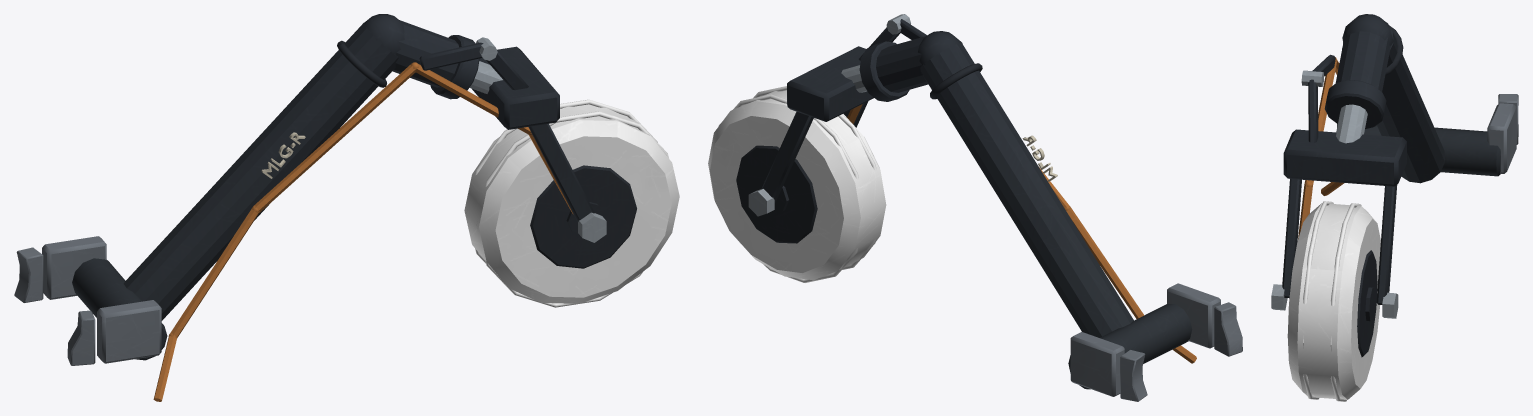
Rendered from landing_strut.glb.
3 views of the same model, side by side, from view 1: azimuth 30°, elevation 25°; view 2: azimuth 150°, elevation 25°; view 3: azimuth 270°, elevation 25° (orthographic). The views are drawn at different scales.
Visible parts, largest first — view 1: landing_strut; view 2: landing_strut; view 3: landing_strut.
Part boxes in pixels (<box>): landing_strut: <box>14,14,679,401</box>; landing_strut: <box>708,14,1242,401</box>; landing_strut: <box>1271,14,1518,401</box>.
Size of the model in its own units: 3.19 by 1.62 by 1.23.
9 materials, 9 textured.
